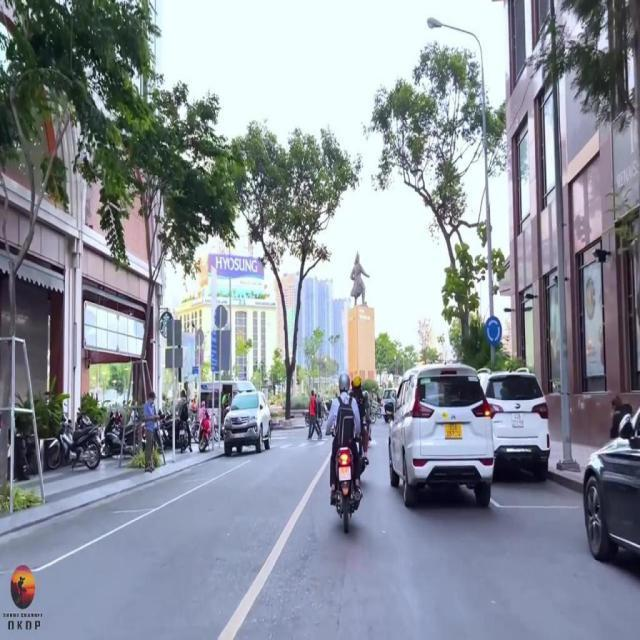303-noi-giao-nhau-chay-theo-vong-xuyen: (484, 316, 502, 344)
